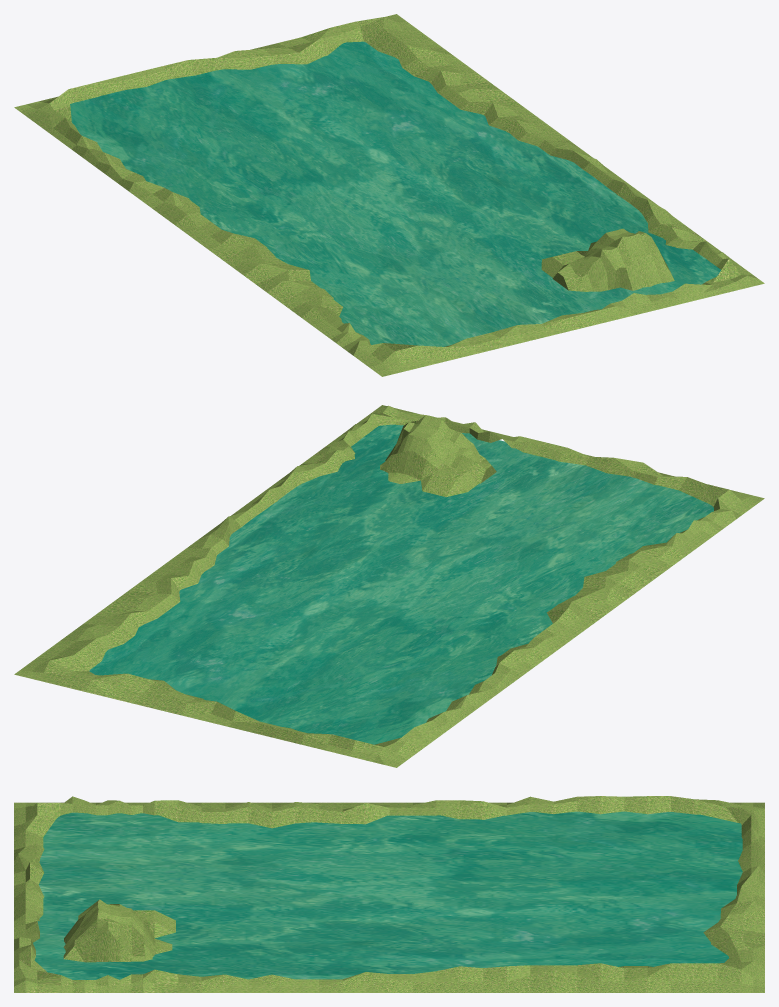
File: terrain.glb
3 views of the same model, one above another, from view 1: azimuth 30°, elevation 25°; view 2: azimuth 150°, elevation 25°; view 3: azimuth 270°, elevation 25° (orthographic).
Parts seen in each view (by area): view 1: water, ground; view 2: water, ground; view 3: water, ground.
Boxes of the visible parts, left/top/right/bottom form: water: left=70, top=41, right=720, bottom=346; ground: left=14, top=14, right=764, bottom=376; water: left=89, top=424, right=713, bottom=744; ground: left=14, top=405, right=764, bottom=767; water: left=33, top=811, right=742, bottom=979; ground: left=14, top=796, right=764, bottom=992.
Size of what is drawn, in the model's own units: 48 by 5.18 by 80.
2 materials, 2 textured.
